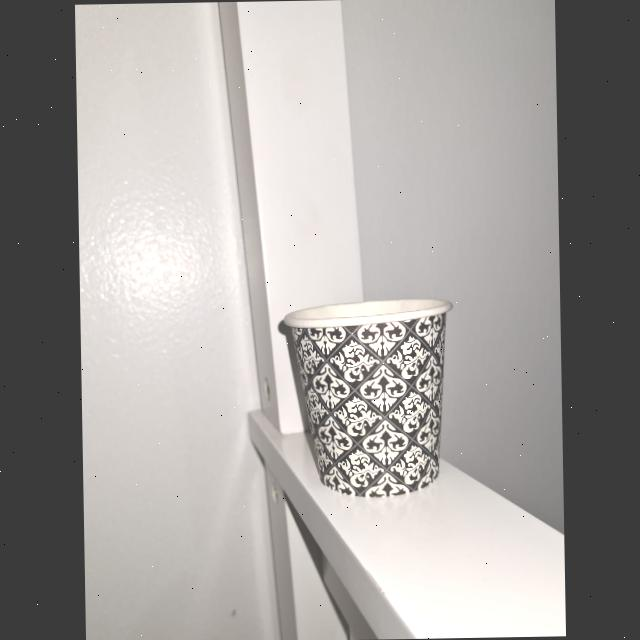trash: (276, 292, 472, 496)
